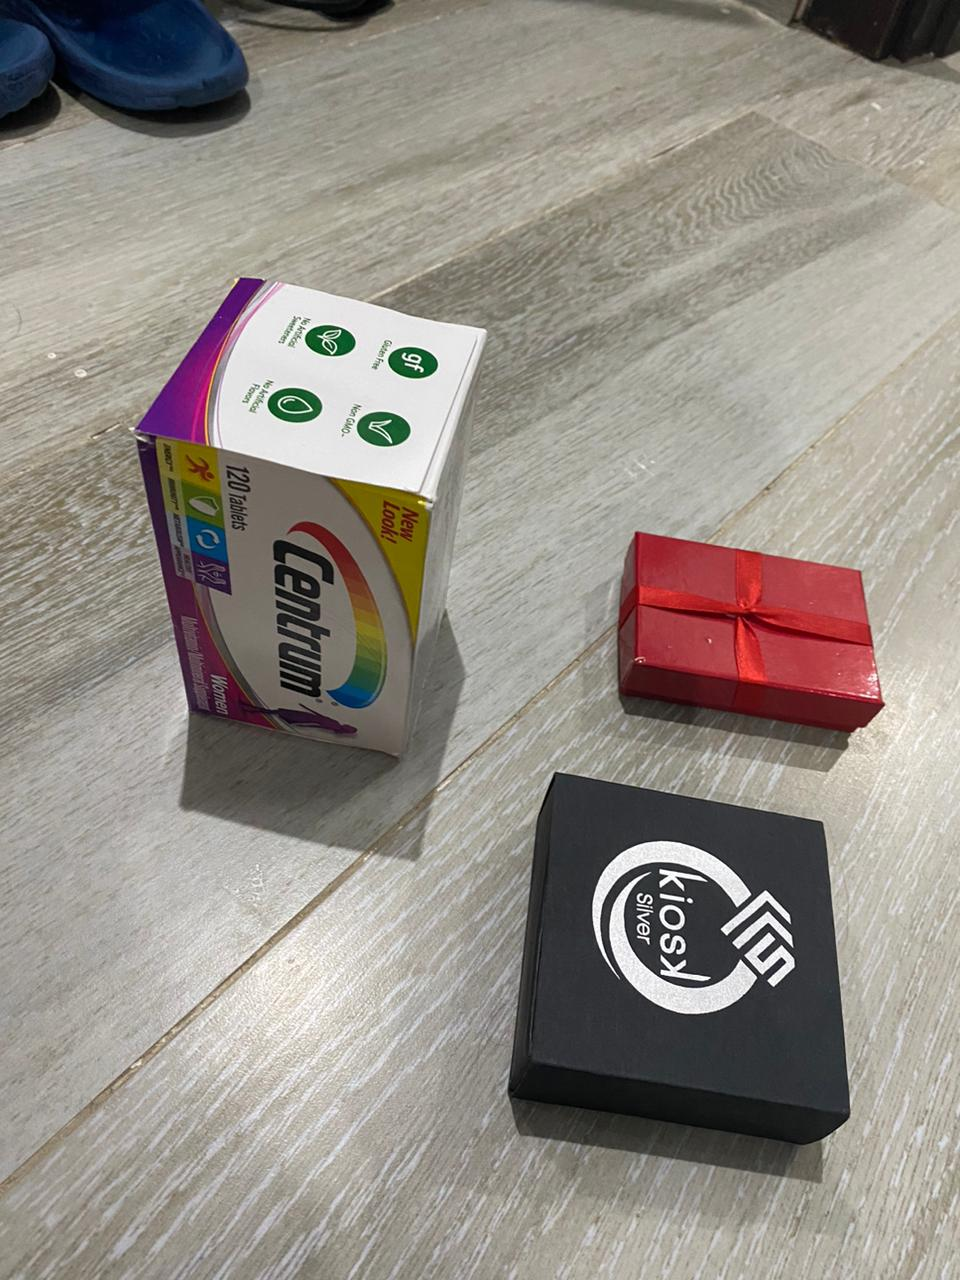Black Box: (613, 523, 887, 741)
Centrum: (125, 270, 490, 768)
Red Box: (506, 770, 853, 1145)
